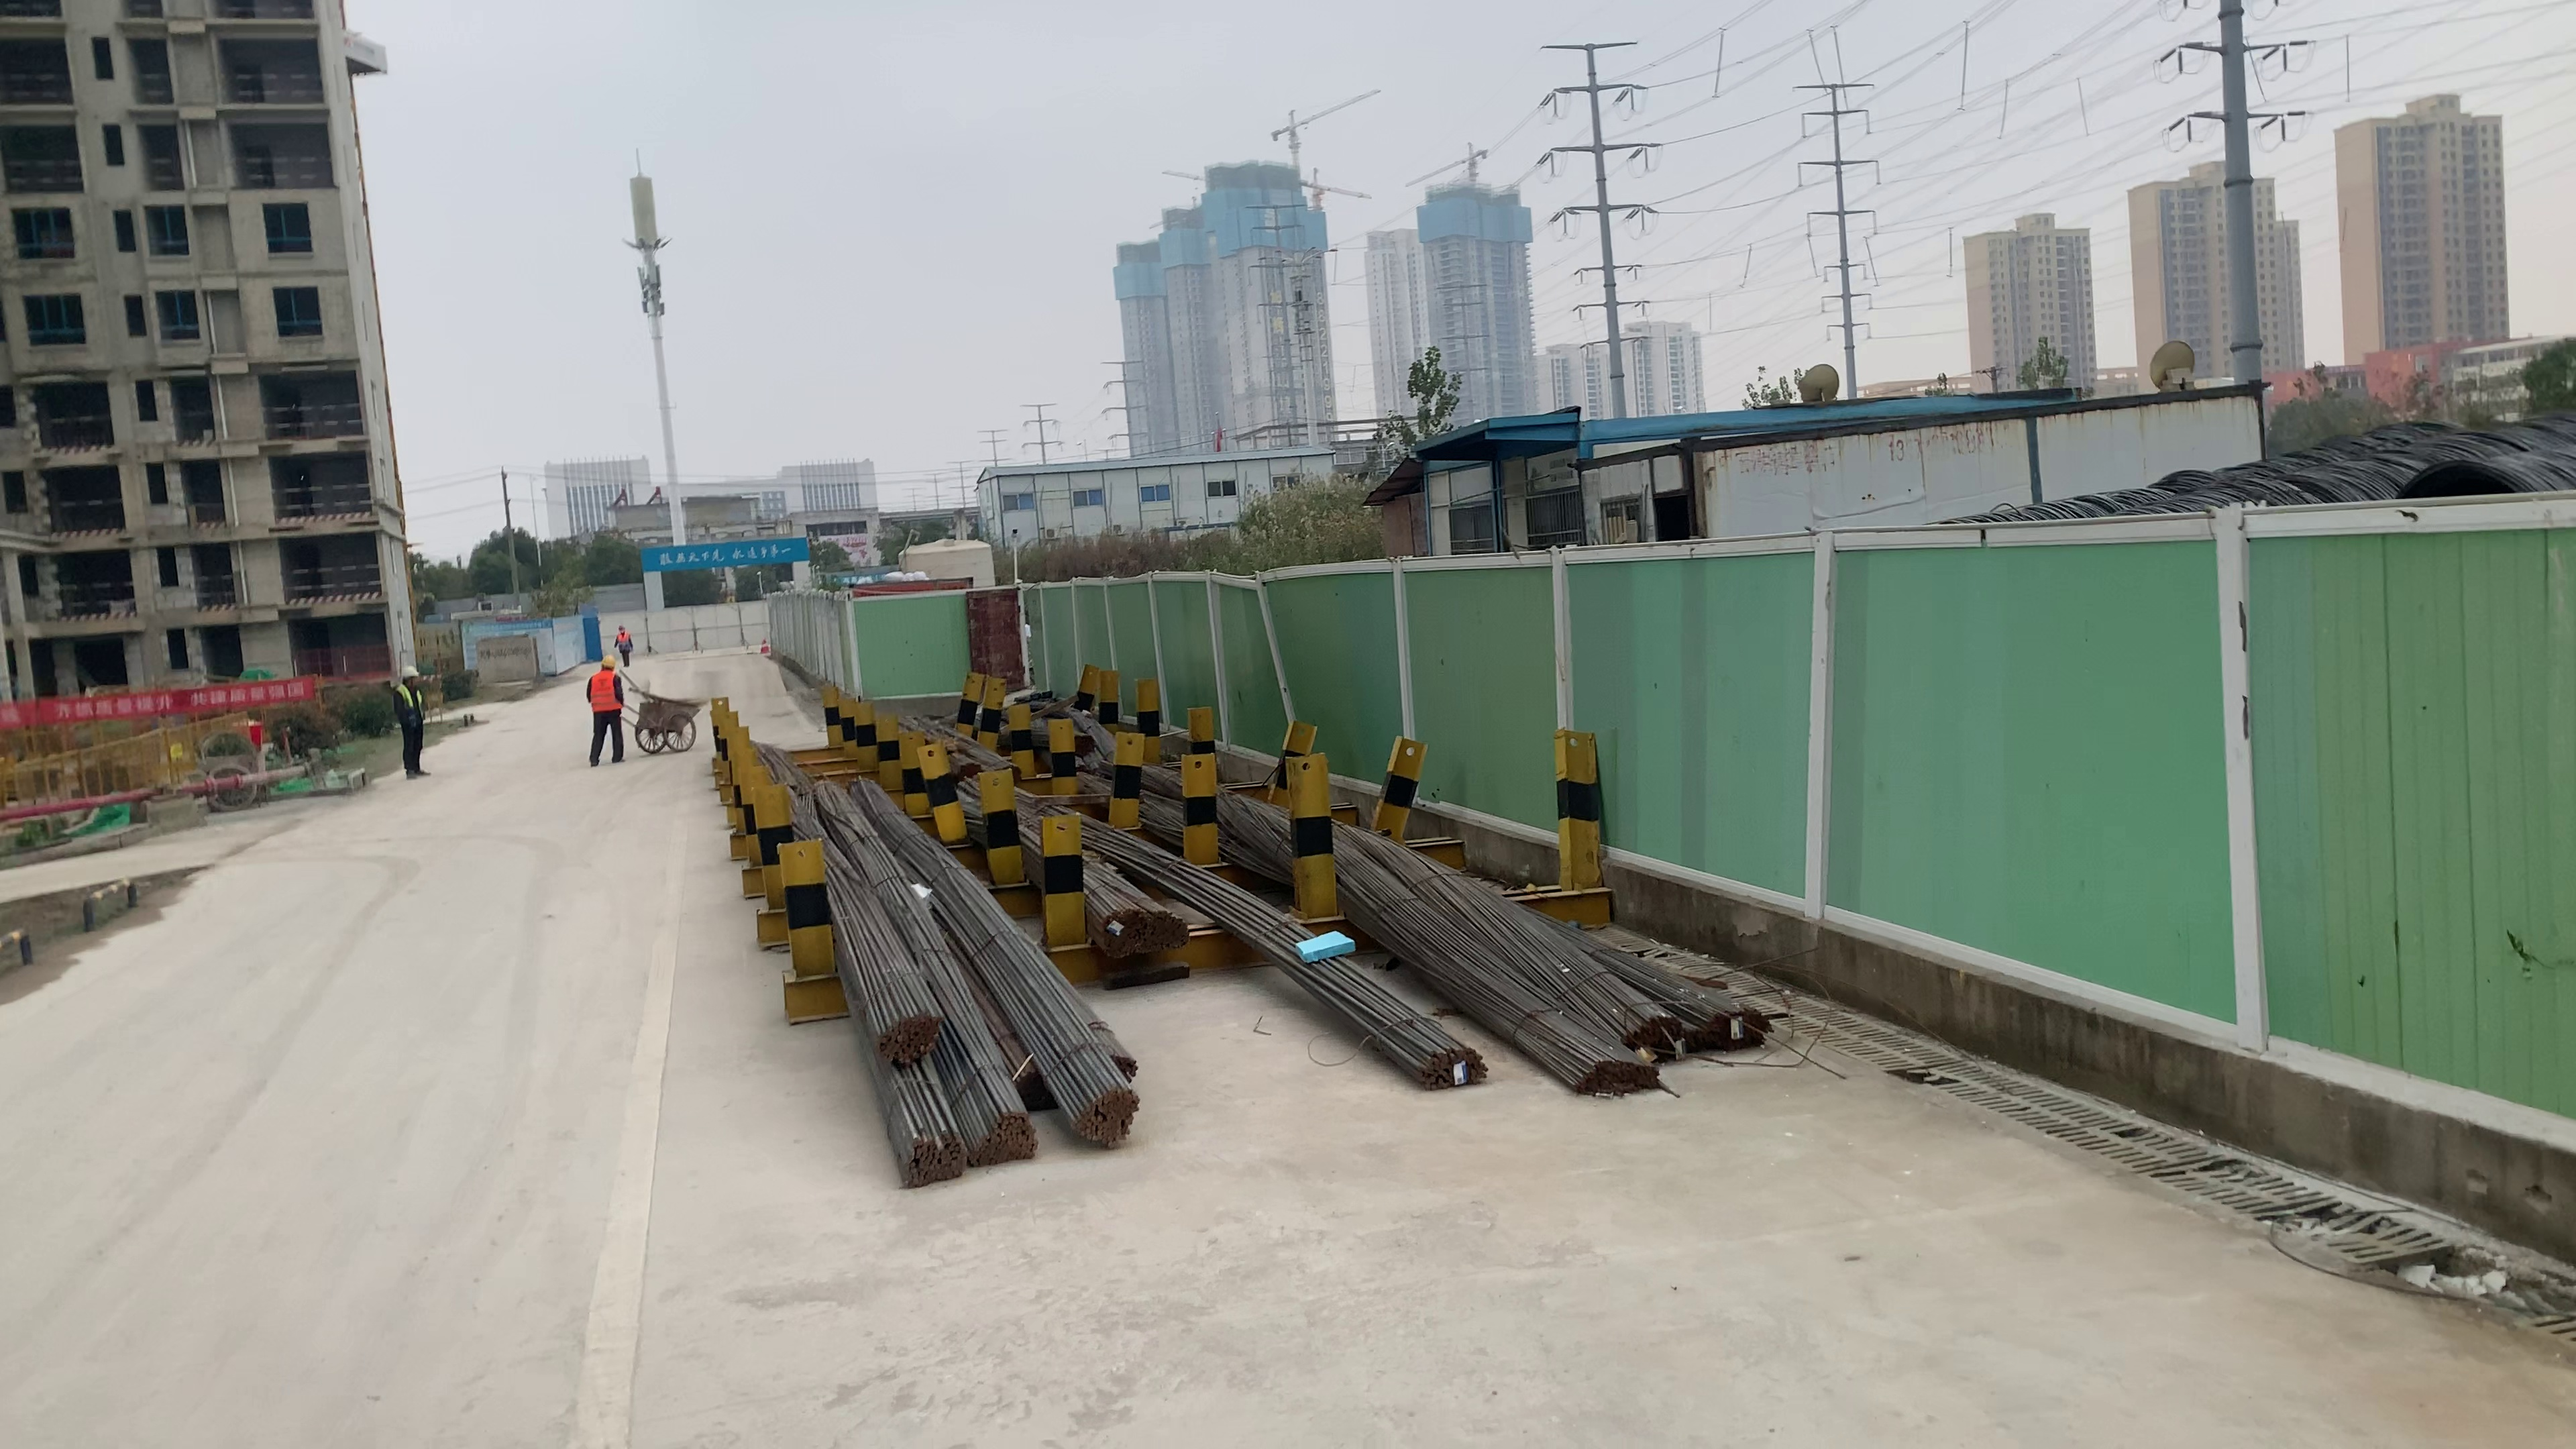rebar: (1693, 998, 1775, 1054), (1405, 1044, 1493, 1086), (1576, 1053, 1658, 1099), (1069, 1085, 1134, 1141), (895, 1129, 970, 1177), (879, 1005, 941, 1060), (971, 1109, 1037, 1157), (1102, 908, 1150, 957), (1624, 1010, 1679, 1053), (1152, 909, 1191, 957), (1108, 1037, 1143, 1076), (1016, 1062, 1044, 1099)
